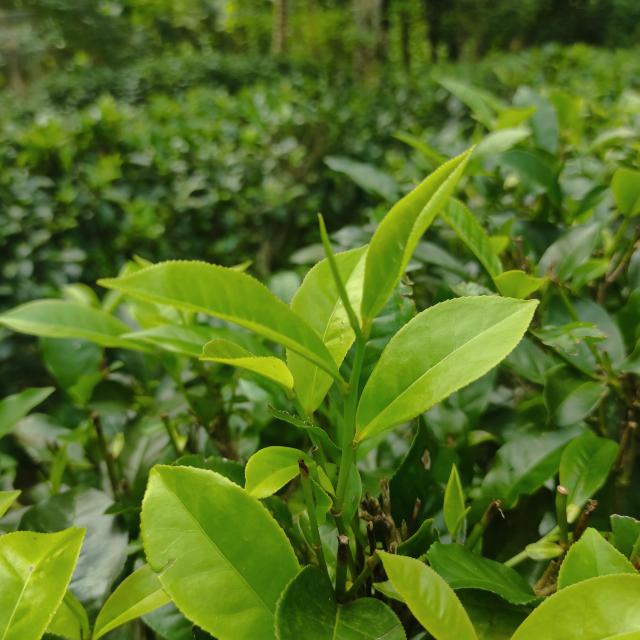unopened_leaf: (311, 205, 368, 349), (446, 505, 476, 540)
